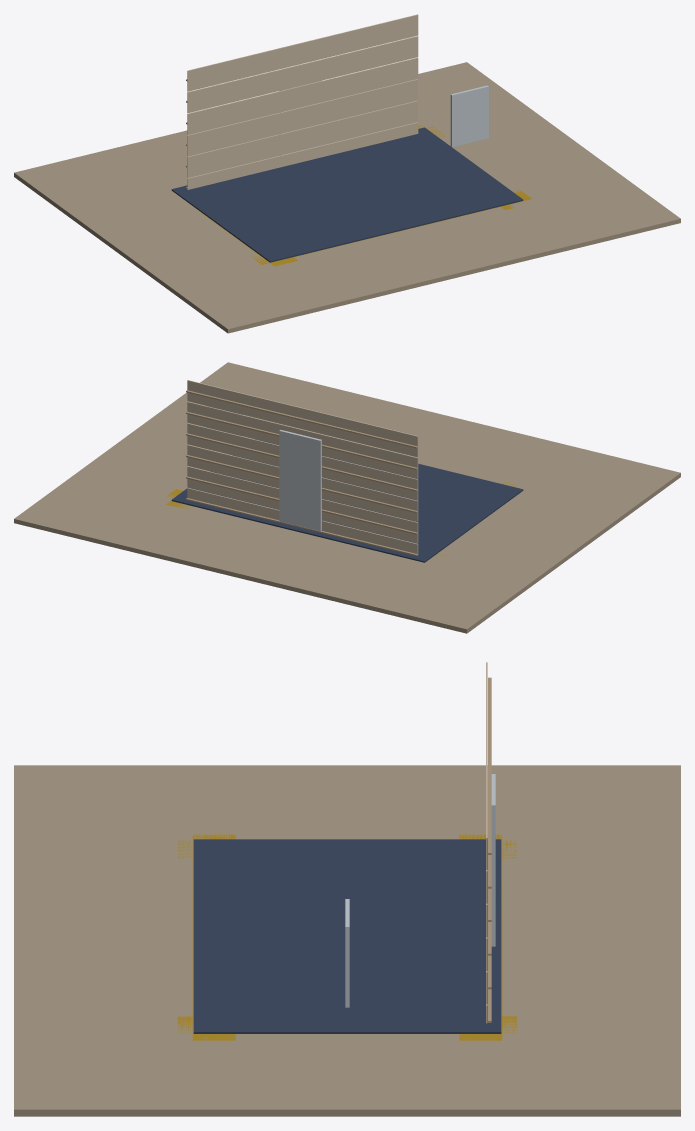
Rendered from stage_07_openings.glb.
3 views of the same model, one above another, from view 1: azimuth 30°, elevation 25°; view 2: azimuth 150°, elevation 25°; view 3: azimuth 270°, elevation 25° (orthographic). The views are drawn at different scales.
Visible parts, largest first — view 1: world; view 2: world; view 3: world.
Boxes of the visible parts, x1,y1,x2,y2 form: world: [14, 14, 680, 333]; world: [14, 362, 680, 633]; world: [14, 662, 680, 1116].
Bounding box in the file's own units: 11 × 3.59 × 9.
